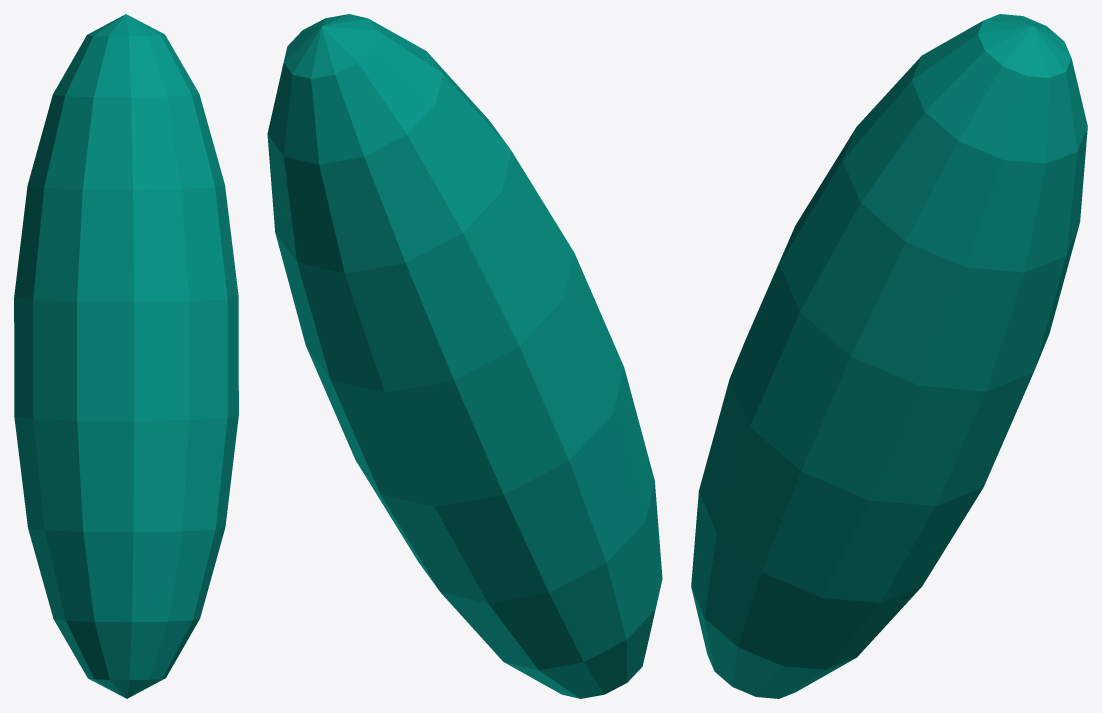
The model's file is n5_n5_group100779543_lev5.glb.
The picture shows the model from 3 angles, left to right: view 1: azimuth 30°, elevation 25°; view 2: azimuth 150°, elevation 25°; view 3: azimuth 270°, elevation 25°; orthographic projection. The views are drawn at different scales.
Visible parts, largest first — view 1: n5_n5_group100779543_lev5; view 2: n5_n5_group100779543_lev5; view 3: n5_n5_group100779543_lev5.
Boxes of the visible parts, <box> form: n5_n5_group100779543_lev5: <box>14,14,238,698</box>; n5_n5_group100779543_lev5: <box>267,14,662,698</box>; n5_n5_group100779543_lev5: <box>691,14,1087,698</box>.
Bounding box in the file's own units: 0.4751 × 1.17 × 0.5743.
